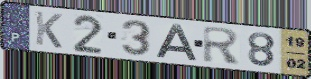2: (72, 13, 105, 56)
3: (119, 19, 153, 57)
8: (247, 31, 277, 68)
A: (153, 22, 199, 62)
K: (34, 10, 64, 50)
R: (201, 25, 243, 66)
